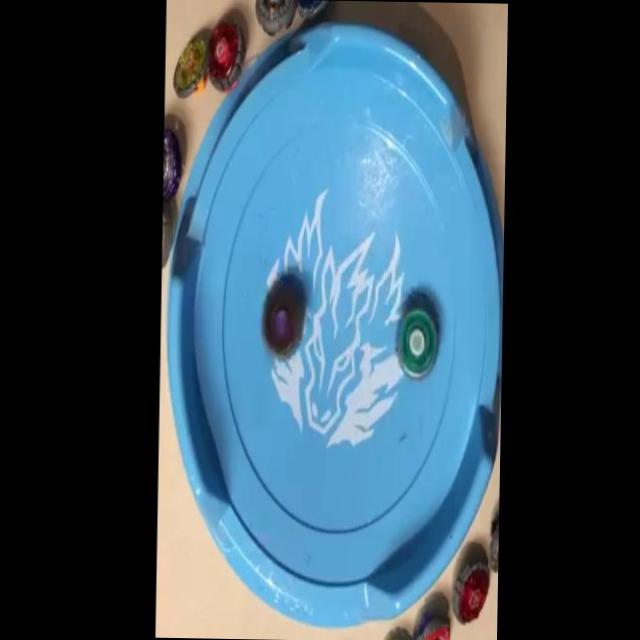Beyblade: (204, 18, 246, 93), (396, 308, 438, 378), (261, 288, 301, 357), (172, 31, 208, 100), (452, 562, 490, 624)
